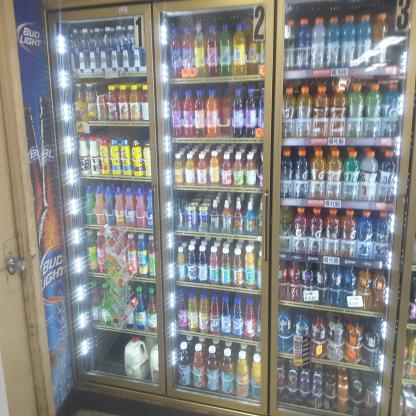Void: (92, 332, 124, 373)
